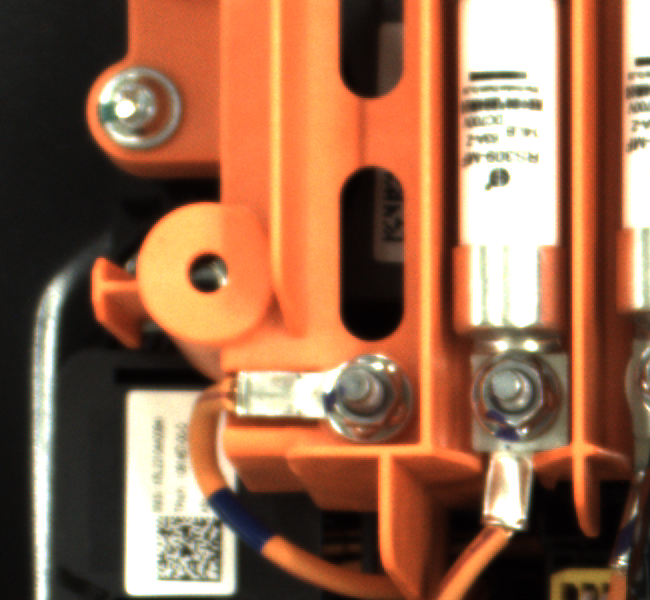screw_m: (89, 58, 191, 157)
screw_s: (321, 344, 421, 452), (470, 351, 557, 449)
